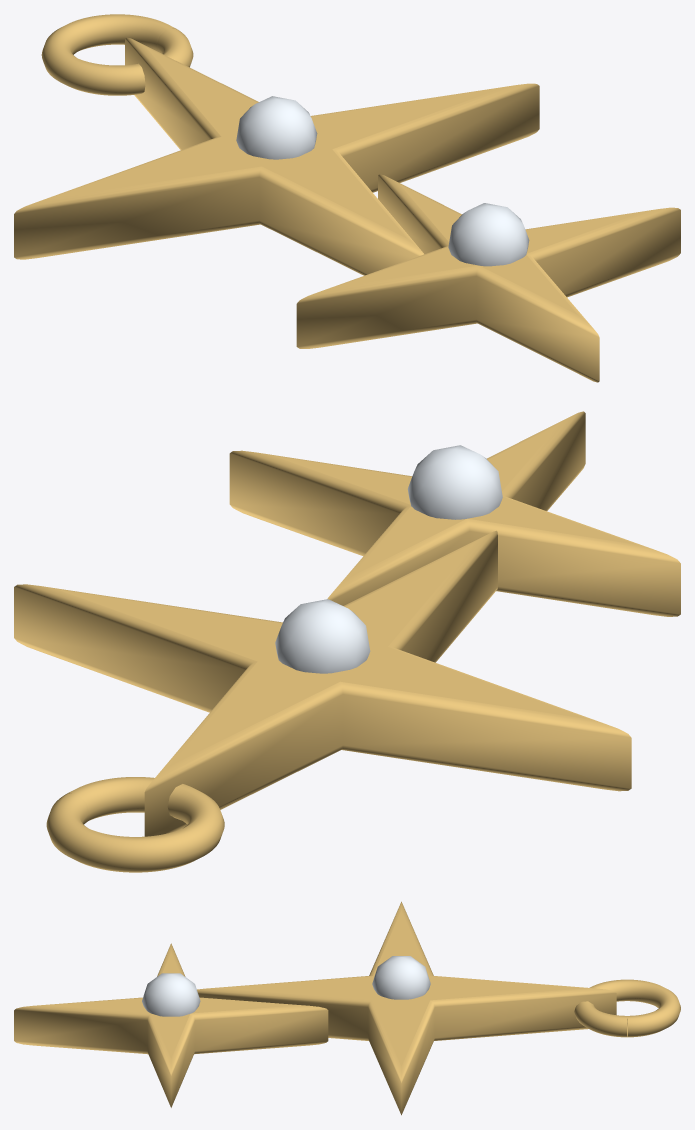
Rendered from pendant-05-gold.glb.
The picture shows the model from 3 angles, top to bottom: view 1: azimuth 30°, elevation 25°; view 2: azimuth 150°, elevation 25°; view 3: azimuth 270°, elevation 25°; orthographic projection. The views are drawn at different scales.
Visible parts, largest first — view 1: Cast relief, Cast relief.001, Wire detail, Icosphere, Icosphere.001; view 2: Cast relief, Cast relief.001, Wire detail, Icosphere, Icosphere.001; view 3: Cast relief, Cast relief.001, Wire detail, Icosphere.001, Icosphere.
Part boxes in pixels (x1,y1,x2,y2): Cast relief: [14, 37, 539, 275]; Cast relief.001: [296, 174, 680, 382]; Wire detail: [41, 14, 193, 95]; Icosphere: [236, 96, 317, 159]; Icosphere.001: [448, 203, 529, 266]; Cast relief: [14, 530, 631, 836]; Cast relief.001: [229, 411, 680, 616]; Wire detail: [46, 777, 224, 872]; Icosphere: [275, 599, 370, 673]; Icosphere.001: [407, 445, 502, 519]; Cast relief: [197, 901, 616, 1115]; Cast relief.001: [14, 943, 328, 1107]; Wire detail: [574, 979, 680, 1037]; Icosphere.001: [142, 973, 200, 1016]; Icosphere: [372, 956, 430, 999].
Bounding box in the file's own units: 0.00953 × 0.00175 × 0.0148.
